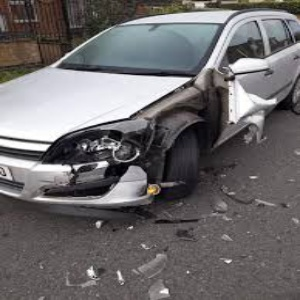bumper: (52, 164, 155, 214)
head_lights: (54, 122, 159, 163)
